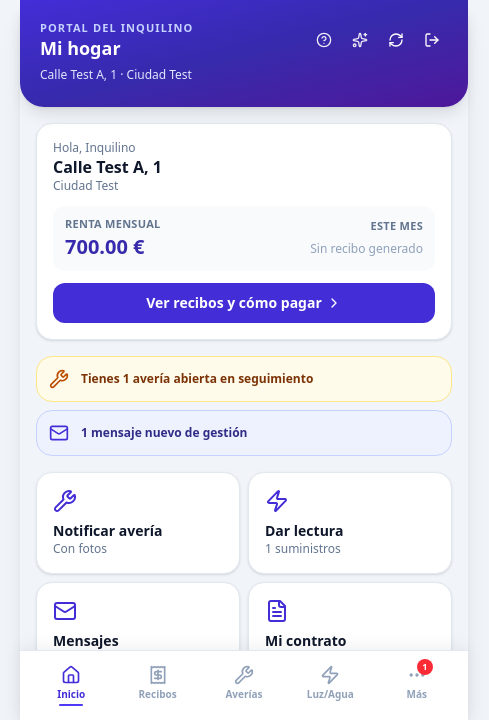
Test: E · Portal · estados vacíos, inválidos y de error › documentos hijos referenciados pero inexistentes (índice huérfano) → se omiten sin romper
The width and height of the screenshot is (489, 720).
Click the button "Averías".
click(244, 686)  # box left=201, top=659, right=287, bottom=712
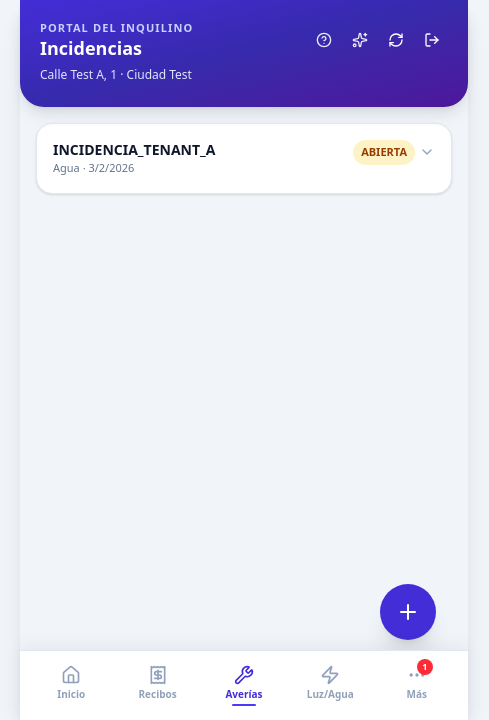
Expected: the text "INCIDENCIA_TENANT_A" is shown, left=53, top=140, right=216, bottom=160
